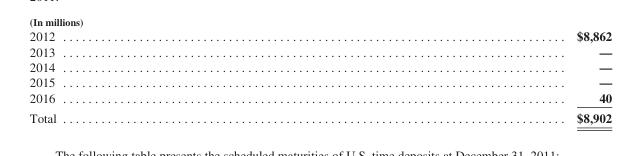table: (28, 28, 611, 124)
table column: (315, 28, 611, 124), (28, 28, 315, 124)
table row: (28, 89, 611, 107), (28, 107, 611, 124), (28, 58, 611, 74), (28, 28, 611, 43), (28, 43, 611, 58), (28, 74, 611, 89)
